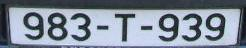-: (140, 24, 153, 33), (96, 24, 110, 32)
3: (70, 11, 92, 42), (182, 12, 202, 42)
8: (47, 12, 68, 41)
9: (22, 11, 45, 41), (158, 13, 179, 44), (205, 12, 225, 41)
T: (113, 11, 136, 42)
